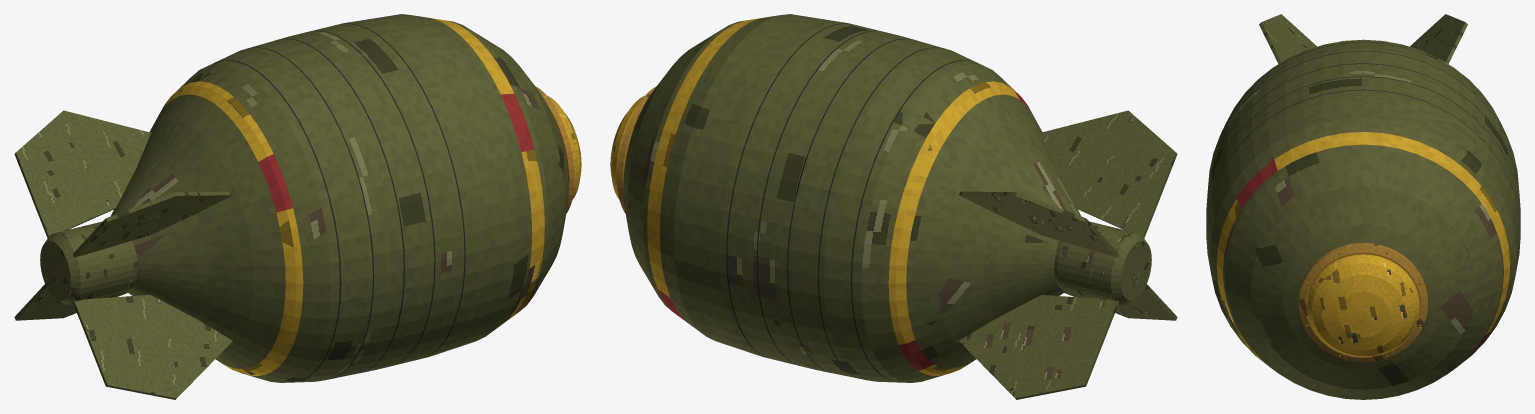
Rendered from bomb.glb.
3 renders of one model, left to right at view 1: azimuth 30°, elevation 25°; view 2: azimuth 150°, elevation 25°; view 3: azimuth 270°, elevation 25°, orthographic. The views are drawn at different scales.
Visible parts, largest first — view 1: bomb; view 2: bomb; view 3: bomb.
Boxes of the visible parts, x1,y1,x2,y2 form: bomb: [14, 14, 581, 399]; bomb: [610, 14, 1177, 399]; bomb: [1206, 14, 1520, 399].
Bounding box in the file's own units: 2.87 × 1.68 × 1.68.
Materials: 5 (5 with a texture image).
